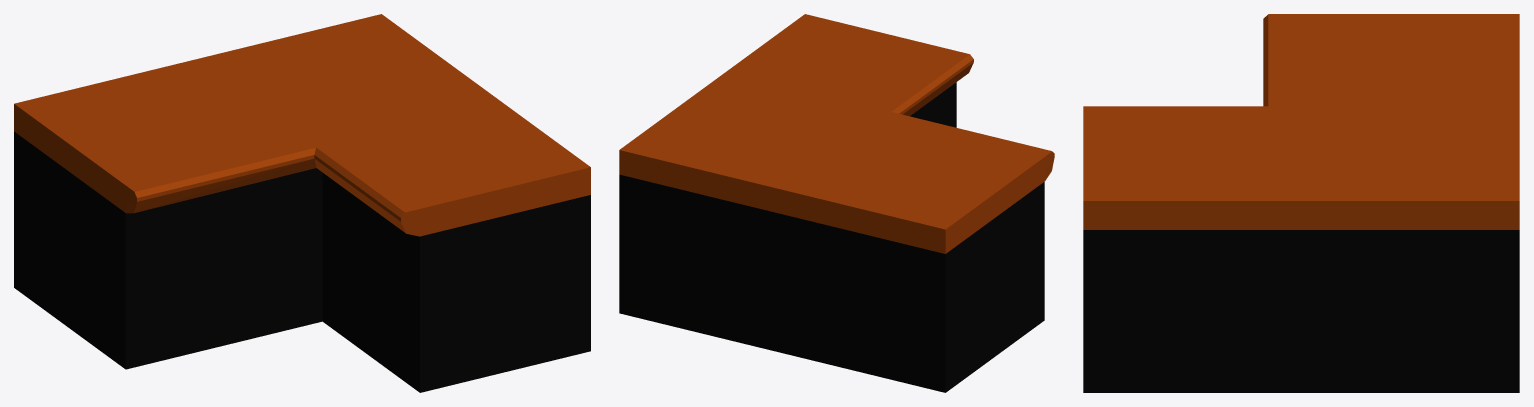
The model's file is kitchin_stand_corner2.gltf.
The picture shows the model from 3 angles, left to right: view 1: azimuth 30°, elevation 25°; view 2: azimuth 150°, elevation 25°; view 3: azimuth 270°, elevation 25°; orthographic projection. The views are drawn at different scales.
Visible parts, largest first — view 1: Cube.005; view 2: Cube.005; view 3: Cube.005.
Boxes of the visible parts, x1,y1,x2,y2 form: Cube.005: [14, 14, 590, 392]; Cube.005: [619, 14, 1054, 392]; Cube.005: [1083, 14, 1519, 392].
Size of the model in its own units: 6.73 by 3.22 by 6.64.
